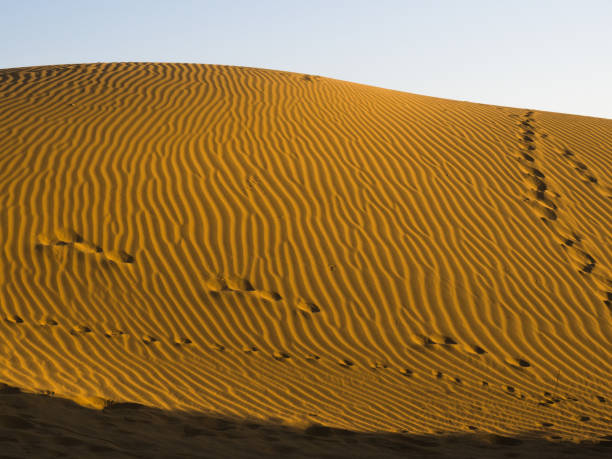human_footprint: (32, 220, 146, 271), (560, 134, 609, 189), (478, 330, 542, 372), (521, 179, 568, 230), (512, 120, 548, 166), (422, 324, 471, 354), (218, 265, 256, 298), (535, 415, 570, 450), (566, 233, 595, 274), (295, 288, 326, 326), (4, 305, 38, 329), (256, 275, 284, 304), (201, 336, 226, 366), (170, 330, 193, 360), (42, 304, 61, 340), (103, 322, 126, 350), (335, 352, 362, 374), (71, 319, 94, 344), (138, 329, 162, 351), (275, 350, 297, 374), (426, 360, 445, 386), (304, 351, 322, 374), (393, 366, 416, 380), (249, 338, 261, 363), (373, 355, 386, 374)
